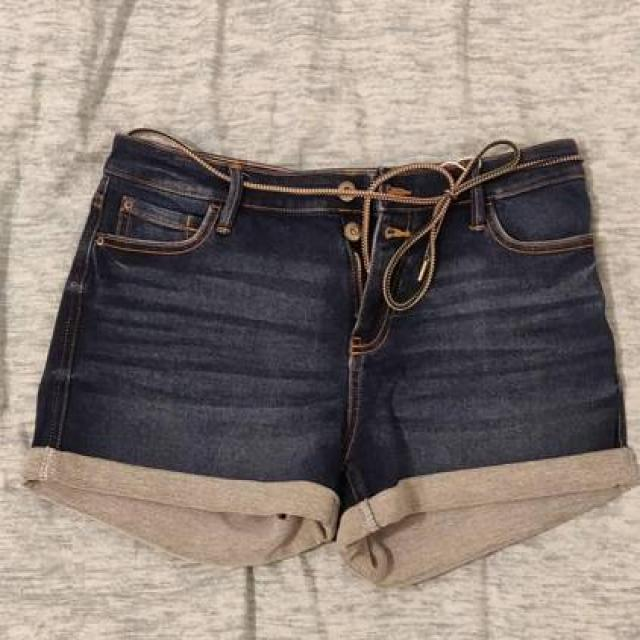Clothes -Biodegradable-: (22, 136, 638, 589)
